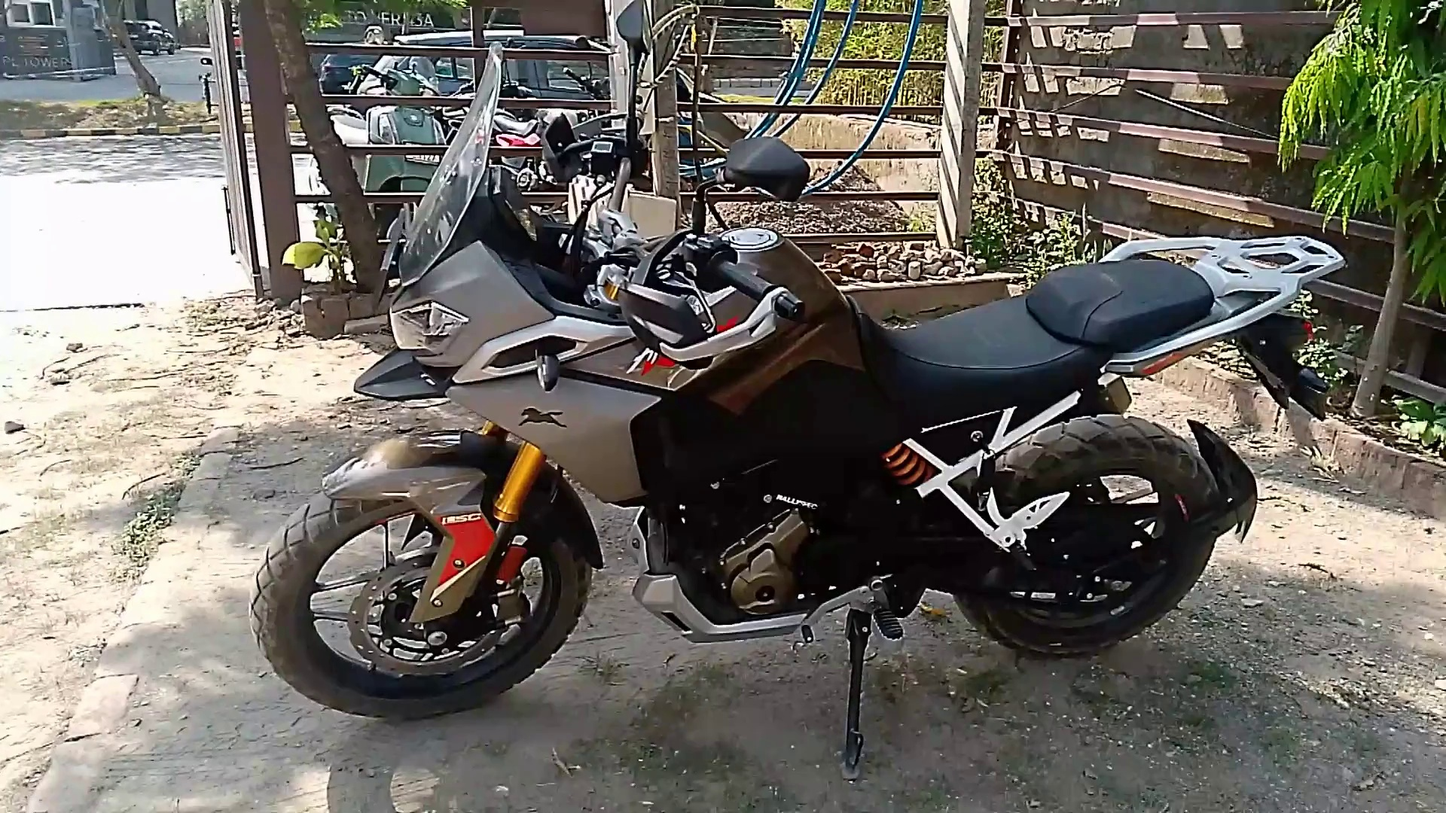engine-casing-left: (719, 506, 811, 615)
side-stand: (845, 614, 873, 773)
